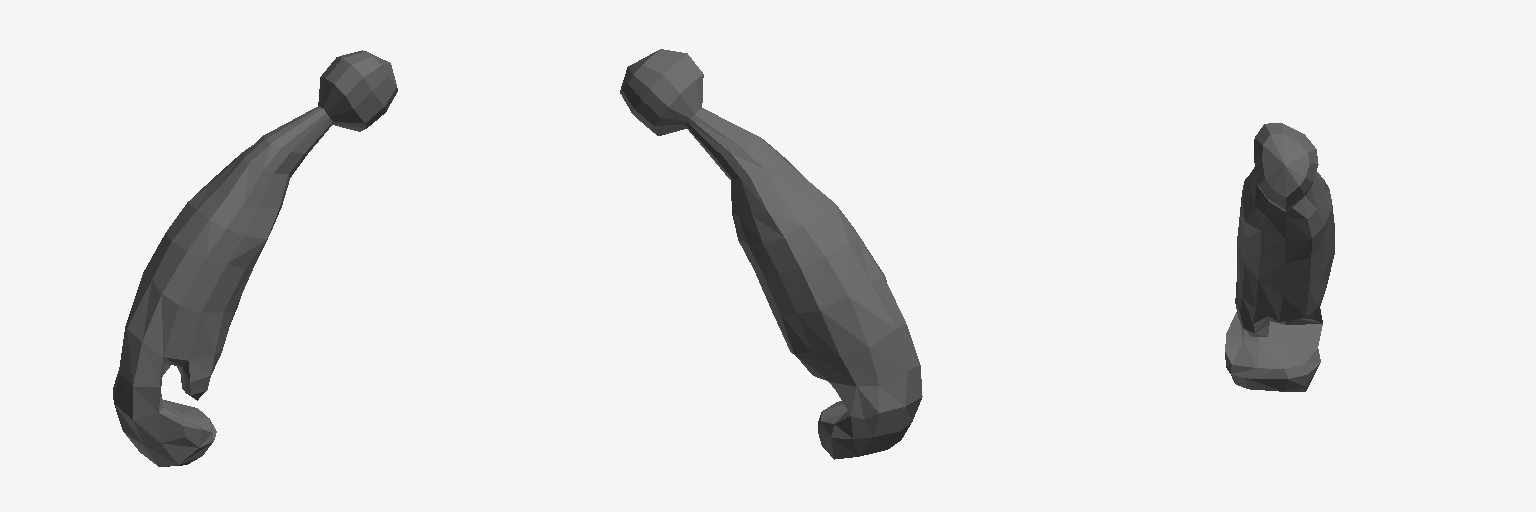
File: thief_rightarm.obj
3 renders of one model, left to right at view 1: azimuth 30°, elevation 25°; view 2: azimuth 150°, elevation 25°; view 3: azimuth 270°, elevation 25°, orthographic.
Parts seen in each view (by area): view 1: thief_rightarm; view 2: thief_rightarm; view 3: thief_rightarm.
Boxes of the visible parts, <box> form: thief_rightarm: <box>113,50,397,466</box>; thief_rightarm: <box>620,49,922,459</box>; thief_rightarm: <box>1225,123,1334,391</box>.
Size of the model in its own units: 10.38 by 12.49 by 3.53.